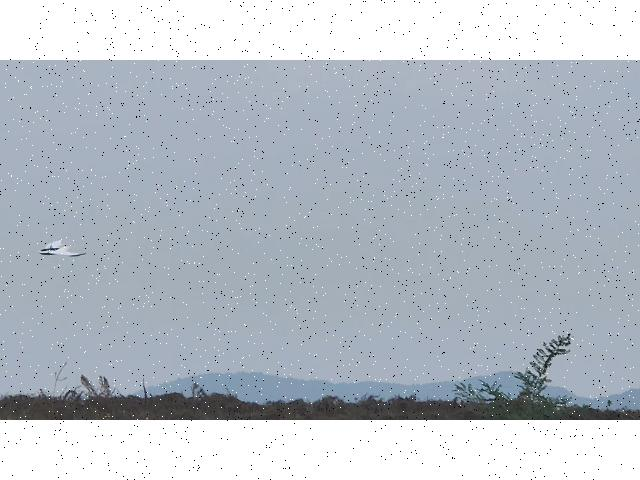Anti-Drone: (38, 238, 88, 260)
